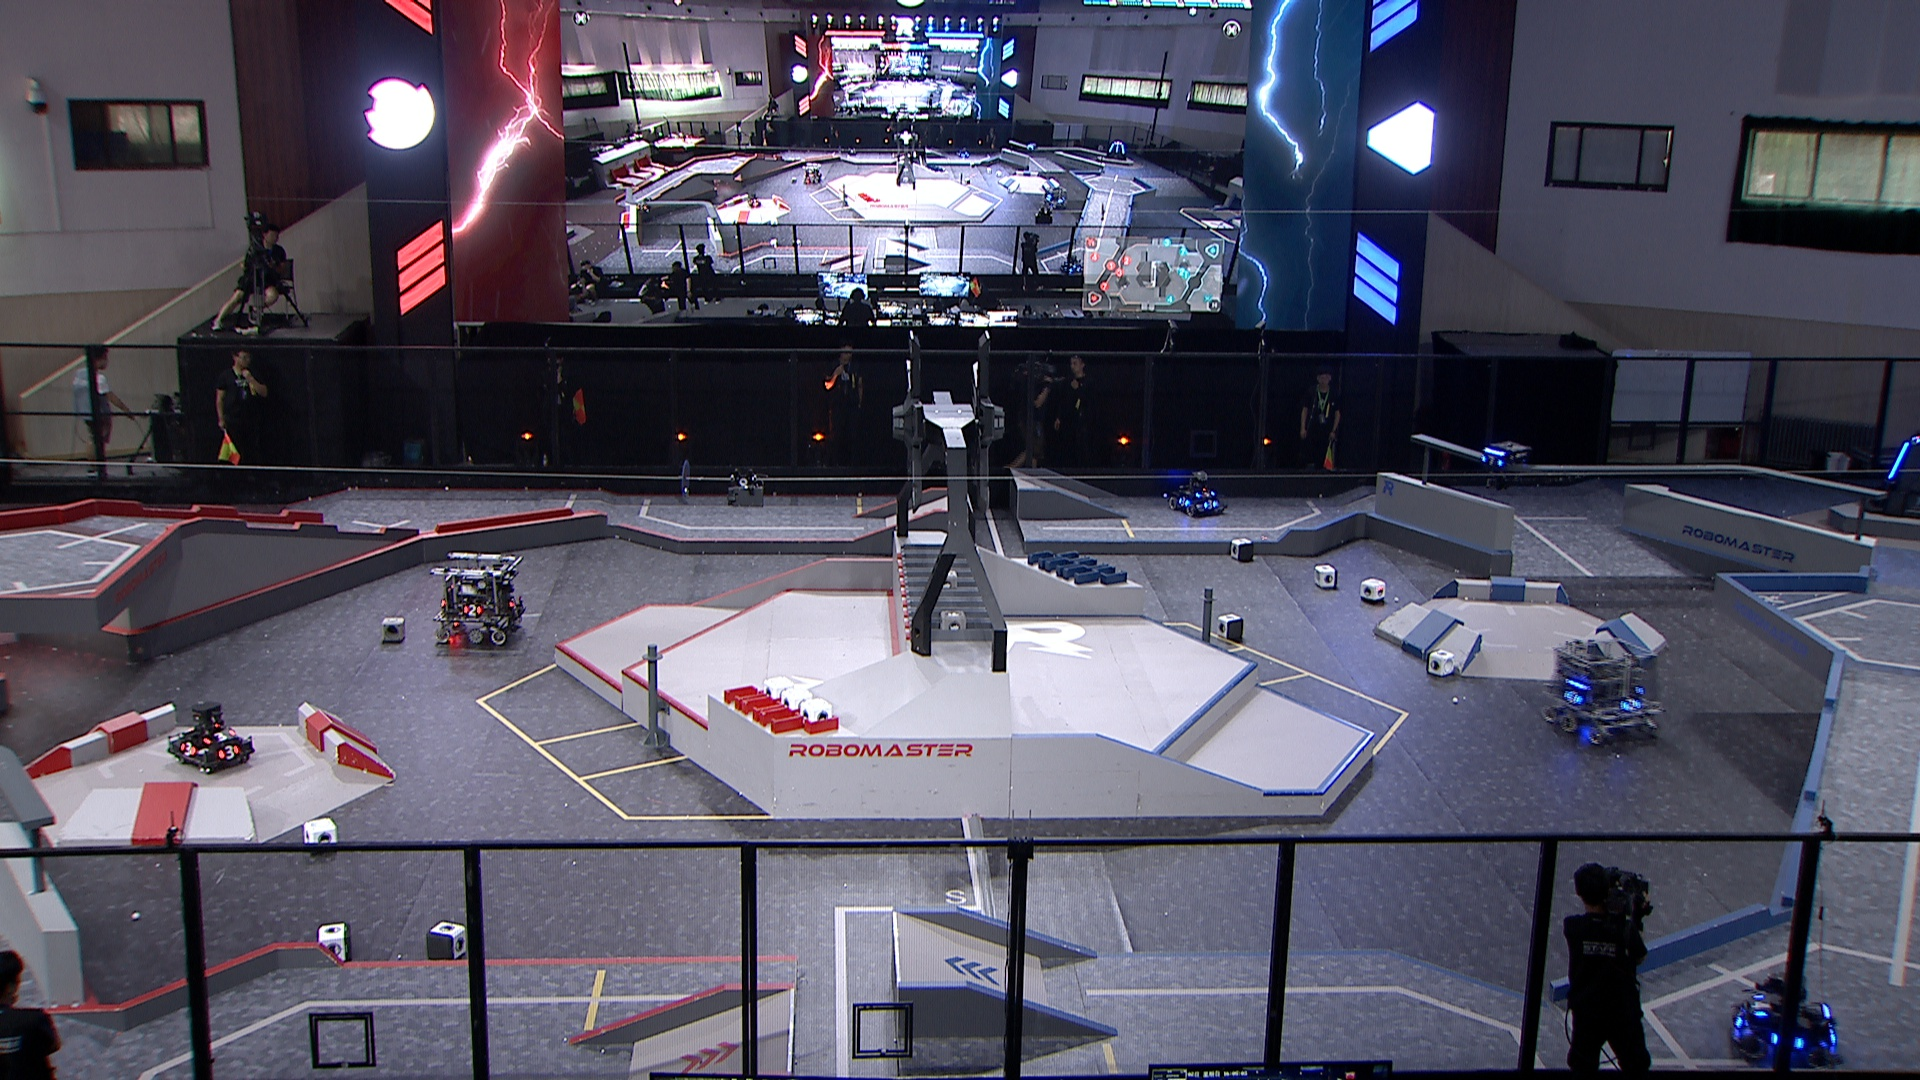armor: (1884, 442, 1911, 481), (202, 728, 237, 746), (1751, 993, 1774, 1021), (1564, 688, 1584, 709), (1480, 455, 1505, 469), (178, 740, 199, 757), (462, 603, 485, 617), (1622, 698, 1643, 713), (218, 746, 240, 761), (1203, 498, 1220, 512), (506, 595, 520, 611), (1195, 491, 1216, 500), (1178, 496, 1192, 508)
base: (1859, 433, 1920, 526)
car: (1538, 637, 1667, 749), (1727, 971, 1840, 1067), (429, 550, 526, 647), (166, 703, 257, 774), (1167, 469, 1230, 518)
ignore: (1044, 186, 1069, 210), (1058, 256, 1084, 277), (1106, 140, 1129, 161), (803, 162, 823, 185), (640, 196, 655, 216), (955, 145, 972, 161), (746, 194, 764, 210), (1025, 142, 1039, 156)
watcher: (1481, 440, 1531, 495)
